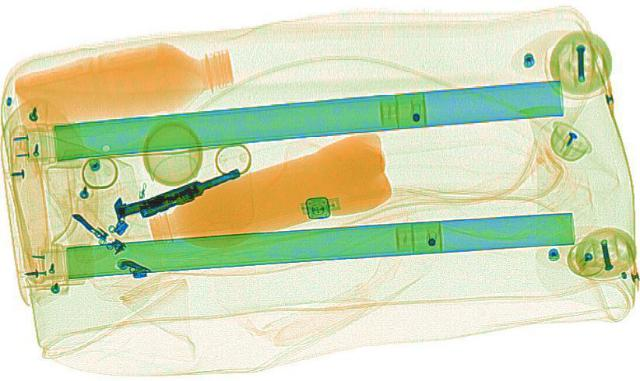Gun: (102, 159, 246, 226)
